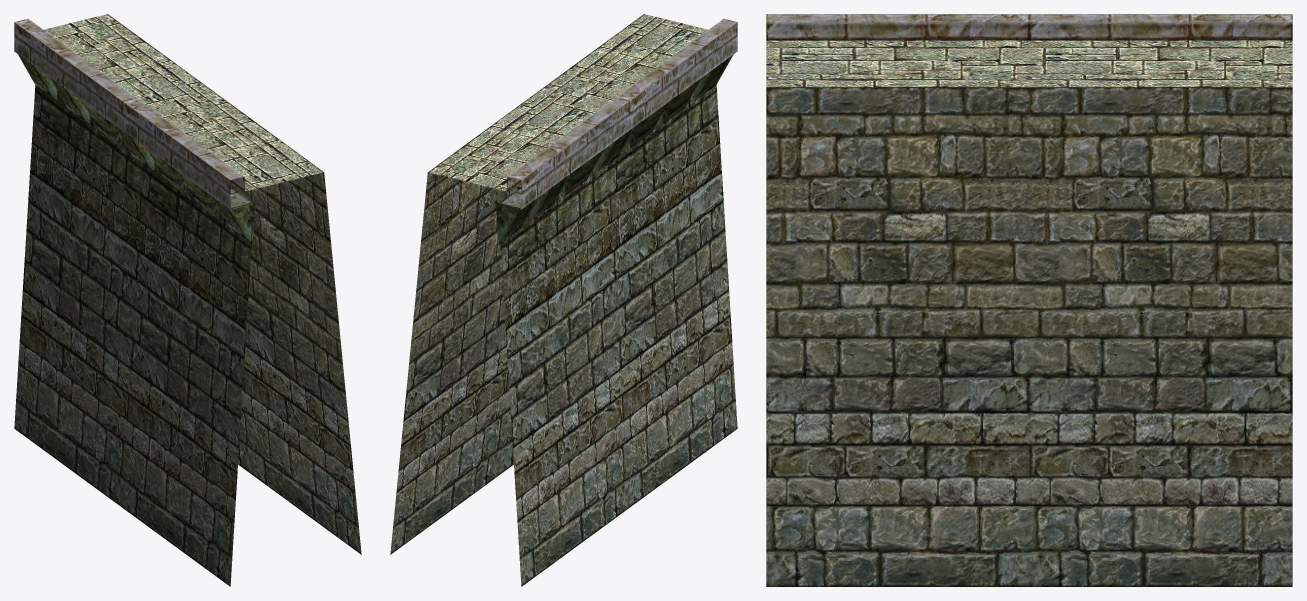
The picture shows the model from 3 angles, left to right: view 1: azimuth 30°, elevation 25°; view 2: azimuth 150°, elevation 25°; view 3: azimuth 270°, elevation 25°; orthographic projection. The views are drawn at different scales.
Parts seen in each view (by area): view 1: cc99; view 2: cc99; view 3: cc99.
Boxes of the visible parts, bbox=[...] form: cc99: bbox=[14, 14, 361, 586]; cc99: bbox=[390, 14, 737, 586]; cc99: bbox=[766, 14, 1292, 586].
Size of the model in its own units: 2.8 by 8.3 by 8.
Materials: 6 (6 with a texture image).
